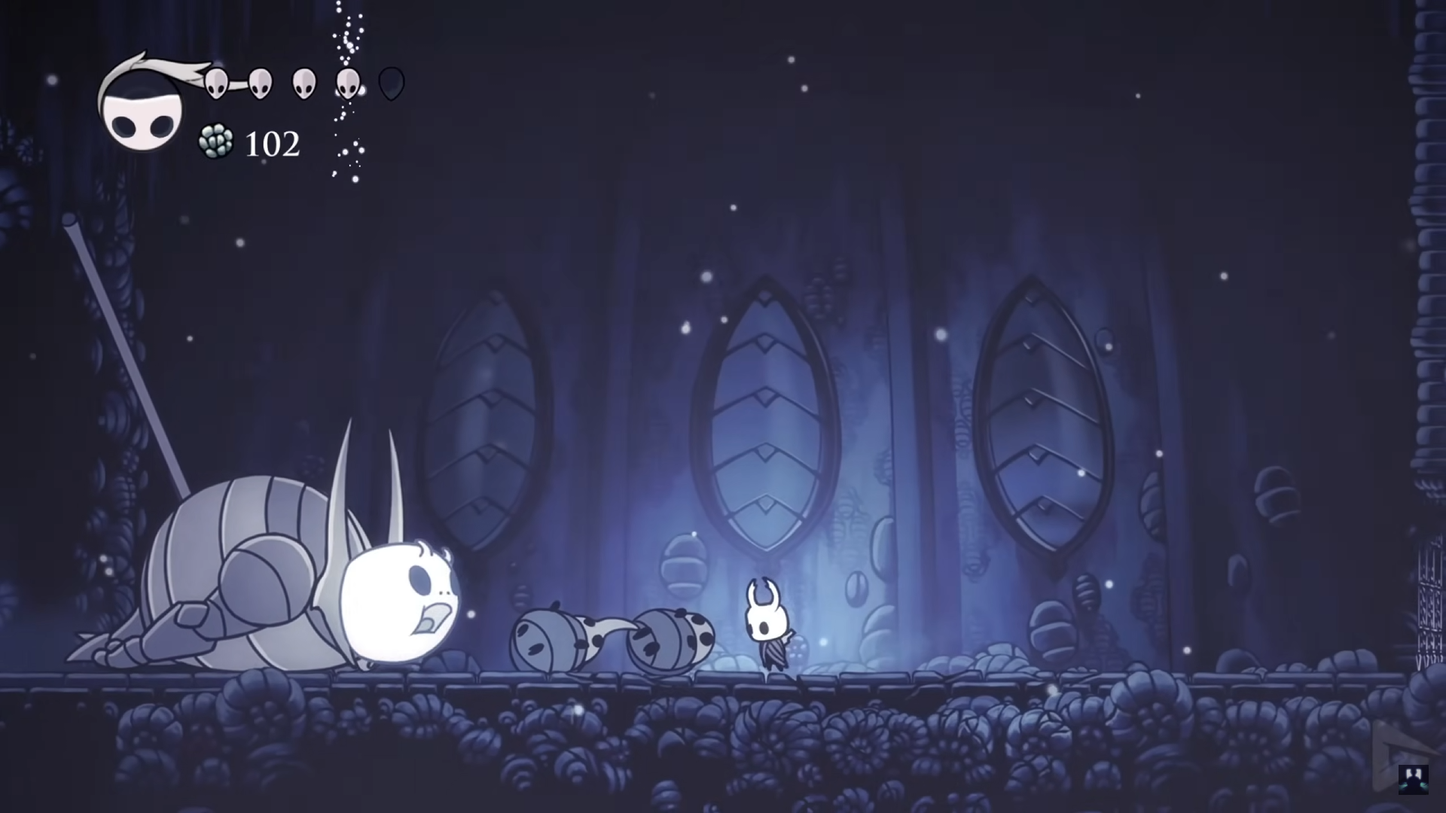HK: (741, 571, 798, 678)
